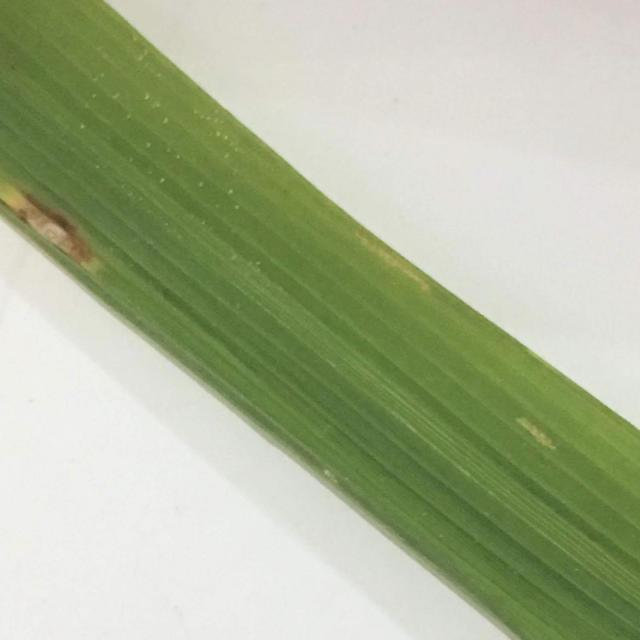Leaf_Blast: (0, 173, 115, 289)
